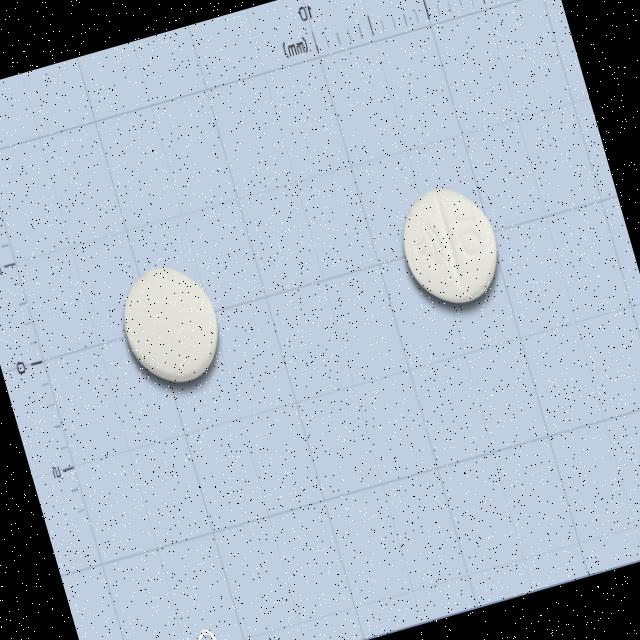CLARITYNE: (382, 164, 518, 328), (106, 248, 234, 400)
